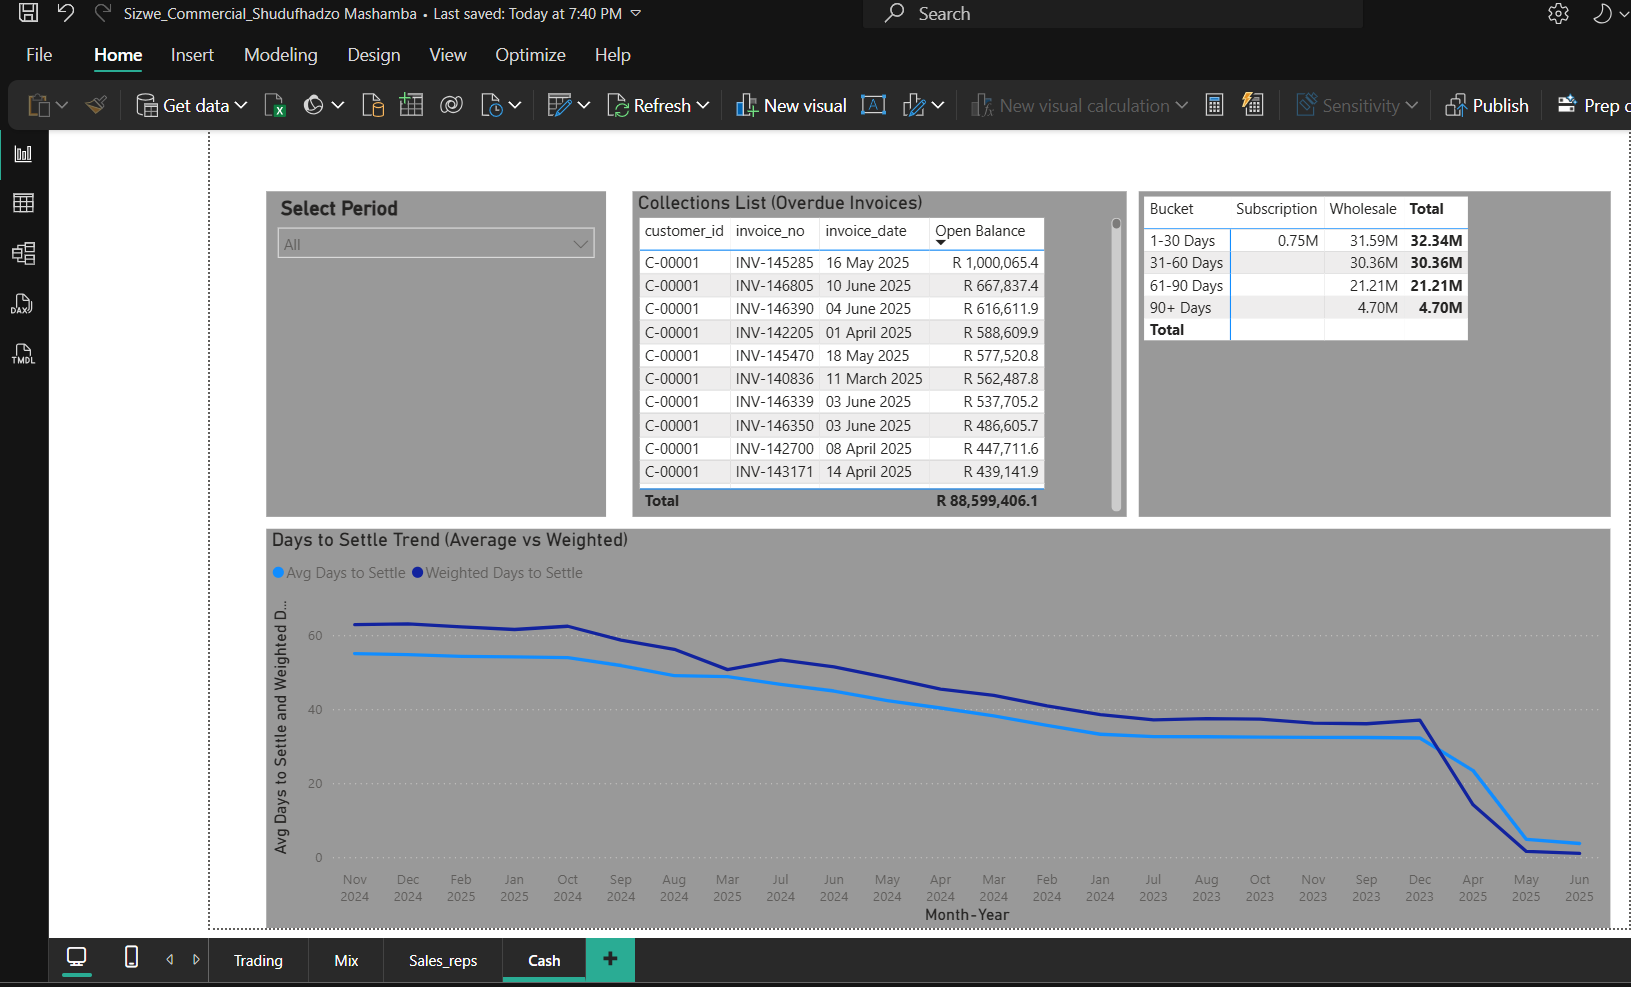

The page's visual inventory and layout, read from the dashboard file:
{"tool":"powerbi","page":{"name":"Cash","canvas":[1280,720],"ordinal":3},"visuals":[{"type":"slicer","fields":{"Values":["DimDate.Month-Year"]},"box":[50.8,54.9,306,293.7],"z":0},{"type":"pivotTable","fields":{"Columns":["sizwe_customers.channel"],"Rows":["AgeingBuckets.Bucket"],"Values":["AgeingBuckets.Ageing Amount"]},"box":[837.1,54.9,425.4,293.7],"z":1000},{"type":"lineChart","title":"Days to Settle Trend (Average vs Weighted)","fields":{"Category":["DimDate.Month-Year"],"Y":["sizwe_ar_ledger.Avg Days to Settle","sizwe_ar_ledger.Weighted Days to Settle"]},"box":[50.8,359.5,1211.7,360.9],"z":2000},{"type":"tableEx","title":"Collections List (Overdue Invoices)","fields":{"Values":["sizwe_customers.customer_id","sizwe_ar_ledger.invoice_no","sizwe_ar_ledger.invoice_date","sizwe_ar_ledger.Open Balance"]},"box":[381.5,54.9,446,293.7],"z":3000}]}

Visuals, with their boxes on the page's 1280x720 design canvas (x1, y1, x2, y2). These are canvas units, not pixel positions in the 1631x987 screenshot, which may show the page scaled, cropped or inside an application window:
slicer - DimDate.Month-Year: detection(51, 55, 357, 349)
pivotTable - sizwe_customers.channel x AgeingBuckets.Bucket: detection(837, 55, 1262, 349)
"Days to Settle Trend (Average vs Weighted)" lineChart: detection(51, 360, 1262, 720)
"Collections List (Overdue Invoices)" tableEx: detection(382, 55, 828, 349)
